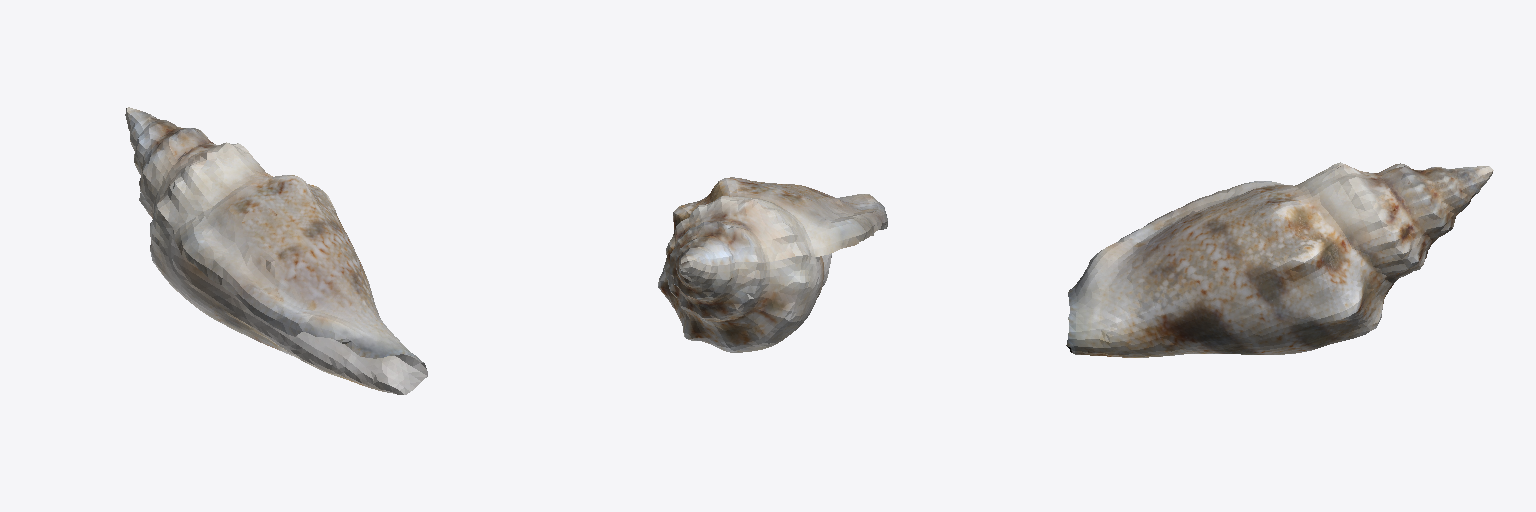
The picture shows the model from 3 angles: view 1: azimuth 30°, elevation 25°; view 2: azimuth 150°, elevation 25°; view 3: azimuth 270°, elevation 25°; orthographic projection.
Parts seen in each view (by area): view 1: Obj3d66_[number redacted]_29_31; view 2: Obj3d66_[number redacted]_29_31; view 3: Obj3d66_[number redacted]_29_31.
Part boxes in pixels (bbox=[...]): Obj3d66_[number redacted]_29_31: bbox=[125, 107, 427, 394]; Obj3d66_[number redacted]_29_31: bbox=[658, 177, 887, 352]; Obj3d66_[number redacted]_29_31: bbox=[1066, 162, 1493, 357].
Bounding box in the file's own units: 15.87 × 15.45 × 35.74.
Materials: 1 (1 with a texture image).